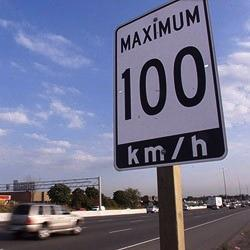speed limit sign: (112, 1, 221, 175)
